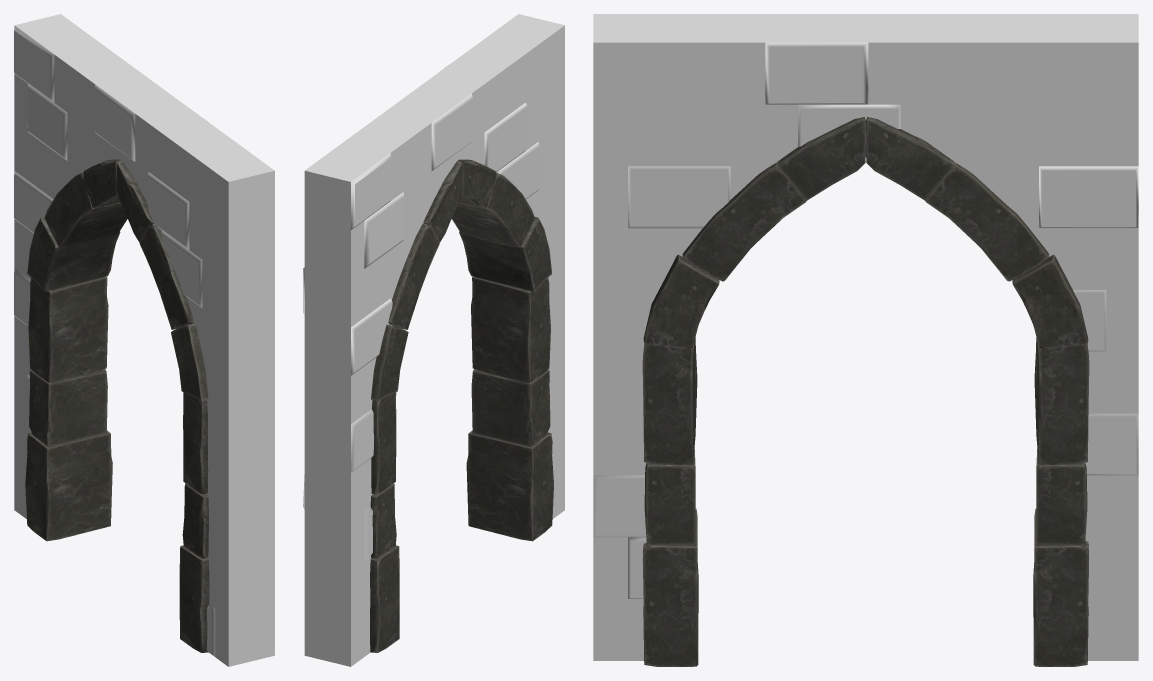
The picture shows the model from 3 angles, left to right: view 1: azimuth 30°, elevation 25°; view 2: azimuth 150°, elevation 25°; view 3: azimuth 270°, elevation 25°; orthographic projection. The views are drawn at different scales.
Parts seen in each view (by area): view 1: SM_Dowdun_Wall_Arch_8x10_01_LOD0; view 2: SM_Dowdun_Wall_Arch_8x10_01_LOD0; view 3: SM_Dowdun_Wall_Arch_8x10_01_LOD0.
Boxes of the visible parts, x1=… form: SM_Dowdun_Wall_Arch_8x10_01_LOD0: x1=14, y1=14, x2=274, y2=666; SM_Dowdun_Wall_Arch_8x10_01_LOD0: x1=303, y1=14, x2=564, y2=666; SM_Dowdun_Wall_Arch_8x10_01_LOD0: x1=593, y1=14, x2=1138, y2=666.
Bounding box in the file's own units: 1.48 × 10.01 × 8.
2 materials, 1 textured.
